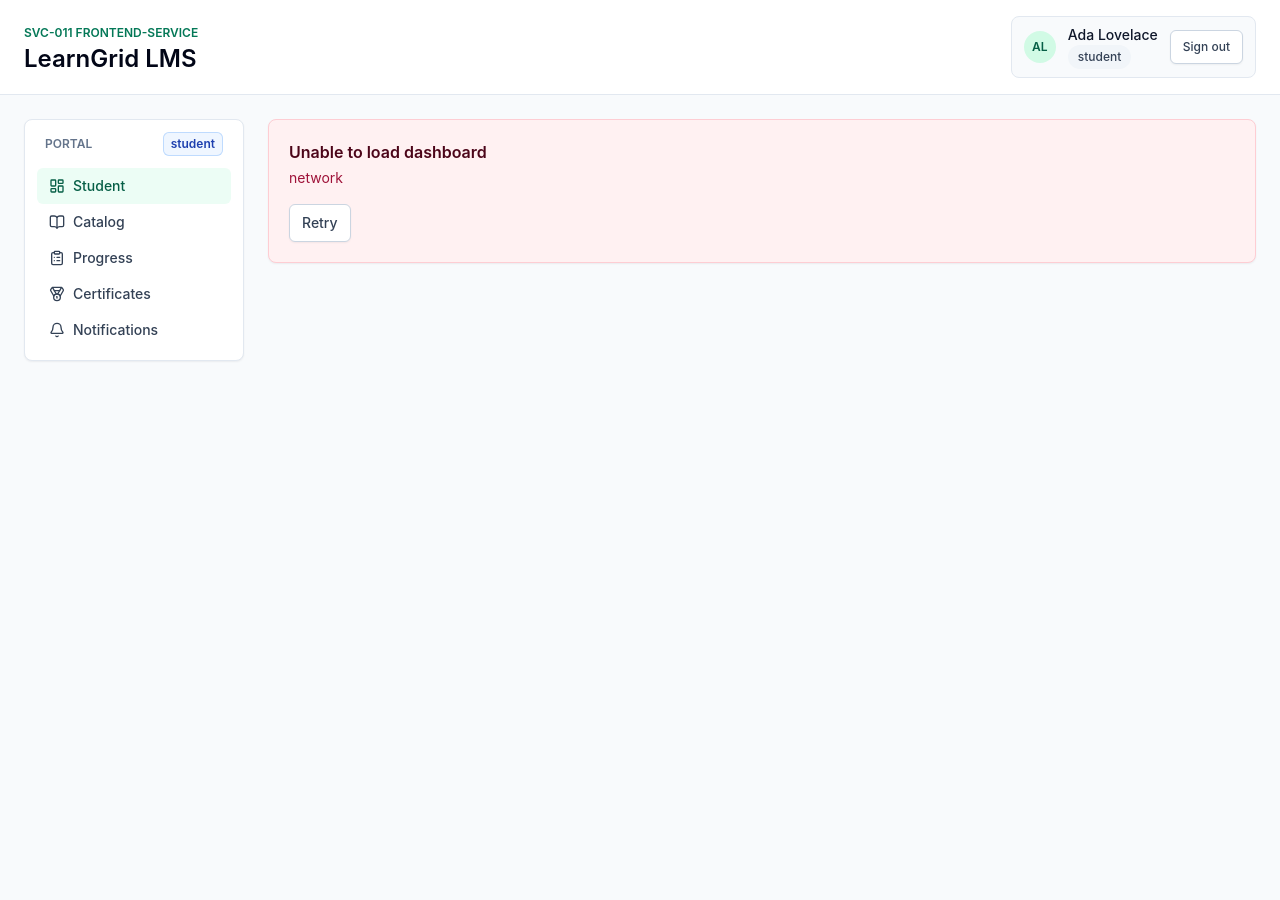
Scenario: dashboard error state exposes retry action
expect the heading "Unable to load dashboard" is shown: met, box [289, 142, 487, 162]
Click the button "Retry" at [320, 223], box [289, 204, 351, 242]
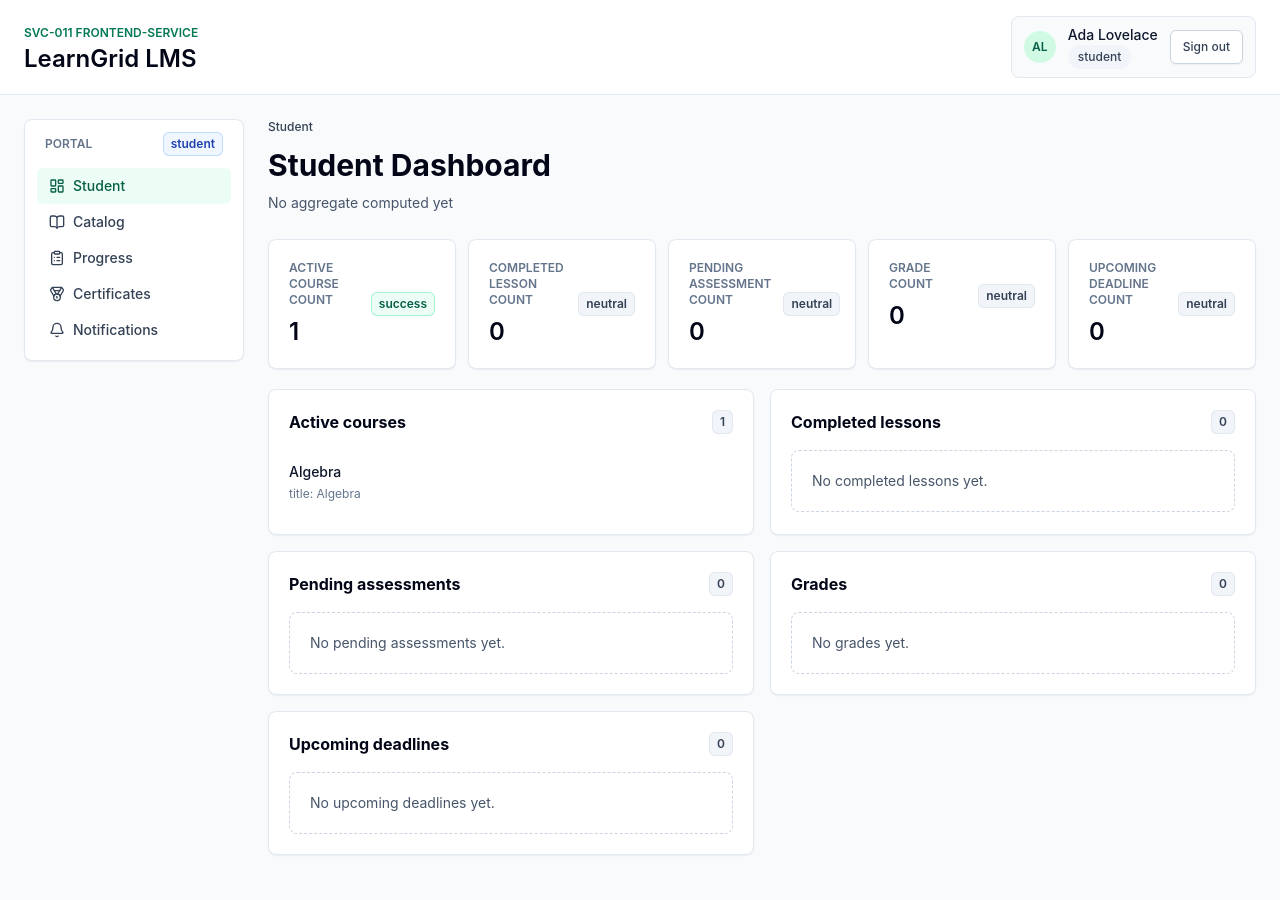
expect the text "Algebra" is shown: met, box [289, 463, 341, 480]
